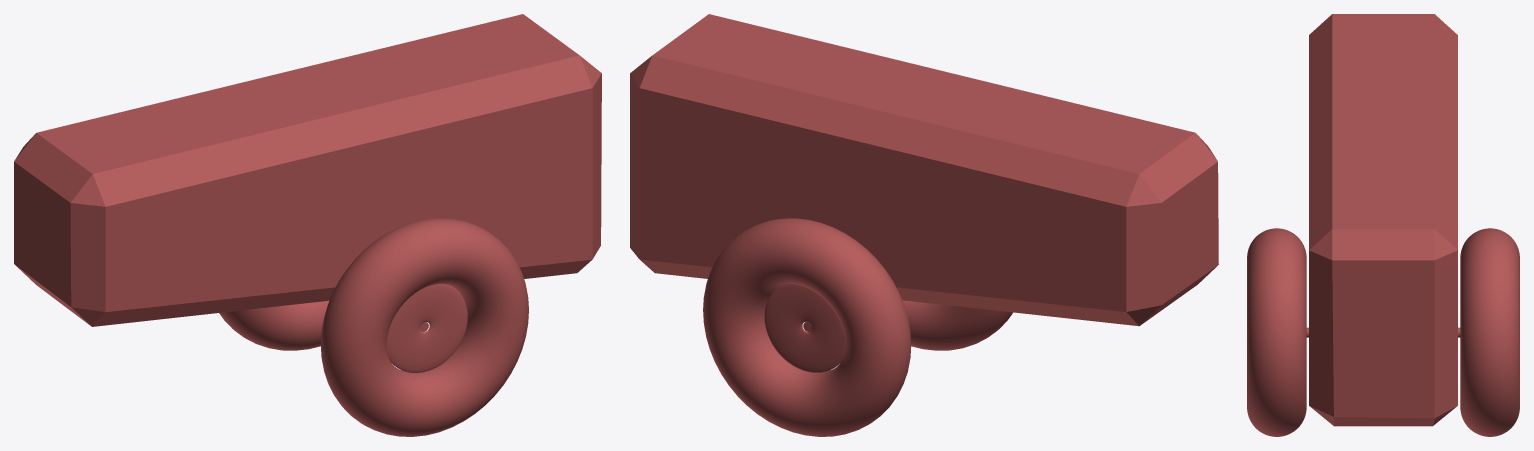
Rendered from Virus.fbx.
The picture shows the model from 3 angles, left to right: view 1: azimuth 30°, elevation 25°; view 2: azimuth 150°, elevation 25°; view 3: azimuth 270°, elevation 25°; orthographic projection. The views are drawn at different scales.
Parts seen in each view (by area): view 1: body, wheels1, wheels2, pasted__wheels1; view 2: body, pasted__wheels1, pasted__wheels2, wheels1; view 3: body, wheels1, pasted__wheels1.
Boxes of the visible parts, x1,y1,x2,y2 form: body: [14, 14, 601, 326]; wheels1: [320, 218, 528, 436]; wheels2: [386, 284, 467, 372]; pasted__wheels1: [219, 300, 329, 350]; body: [630, 14, 1218, 326]; pasted__wheels1: [703, 218, 911, 436]; pasted__wheels2: [764, 284, 845, 372]; wheels1: [902, 300, 1012, 350]; body: [1309, 14, 1457, 426]; wheels1: [1247, 228, 1306, 436]; pasted__wheels1: [1460, 228, 1519, 436].
Size of the model in its own units: 11.19 by 6.21 by 5.49.
